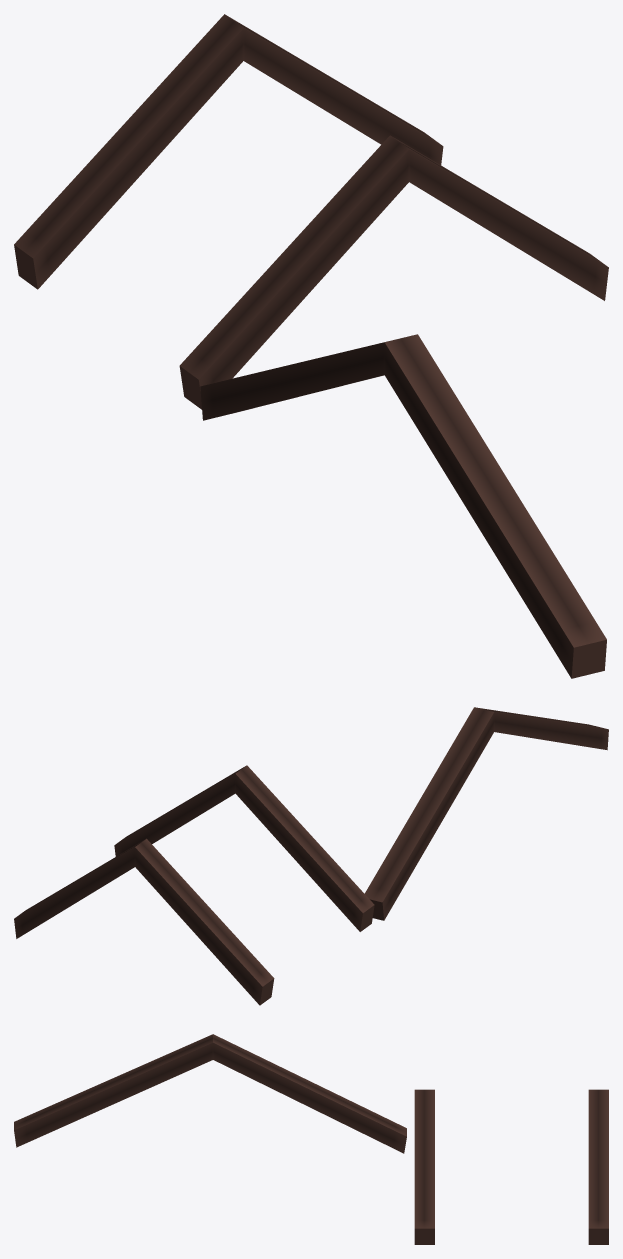
File: roof_beam_v013.fbx
3 renders of one model, top to bottom at view 1: azimuth 30°, elevation 25°; view 2: azimuth 150°, elevation 25°; view 3: azimuth 270°, elevation 25°, orthographic. The views are drawn at different scales.
Visible parts, largest first — view 1: roof_beam_v013; view 2: roof_beam_v013; view 3: roof_beam_v013.
Boxes of the visible parts, x1,y1,x2,y2 form: roof_beam_v013: (14,14,608,678); roof_beam_v013: (14,707,608,1005); roof_beam_v013: (14,1034,608,1244).
Size of the model in its own units: 336 by 163 by 791.
